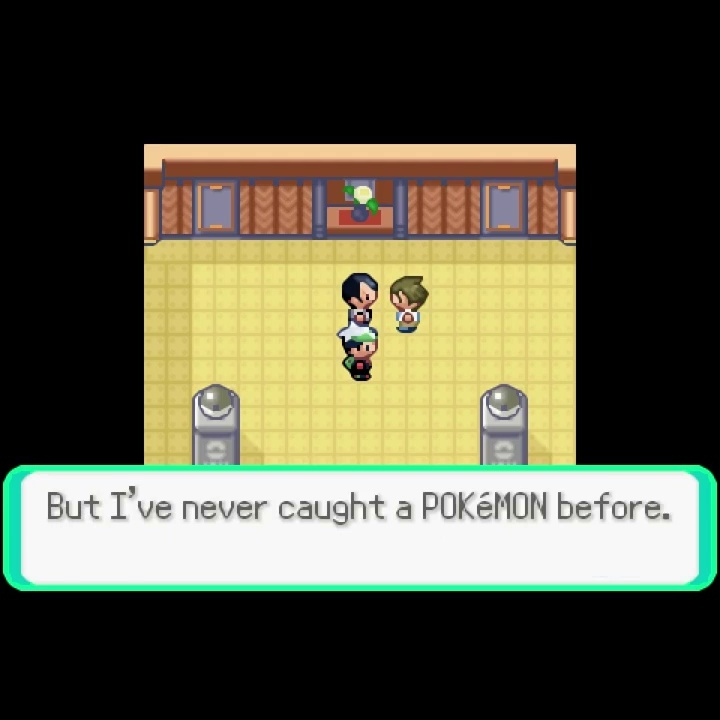npc: (387, 274, 432, 336), (338, 321, 381, 383), (342, 271, 380, 325)
